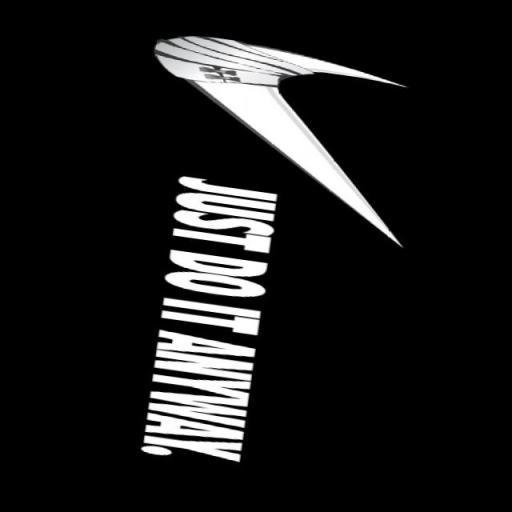Nike: (141, 34, 430, 251)
